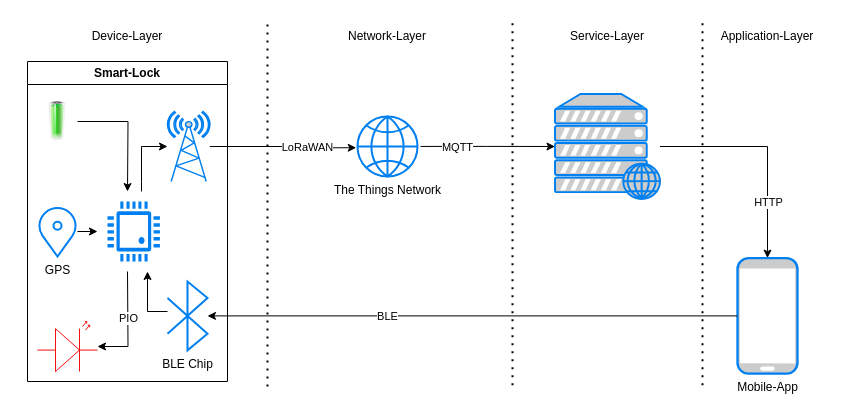
This 844x412 diagram has some shape labels left out. Each missing label, with the box of its shape:
LoRa Chip: (166, 110, 210, 182)
Node-Red Server: (554, 92, 660, 200)
